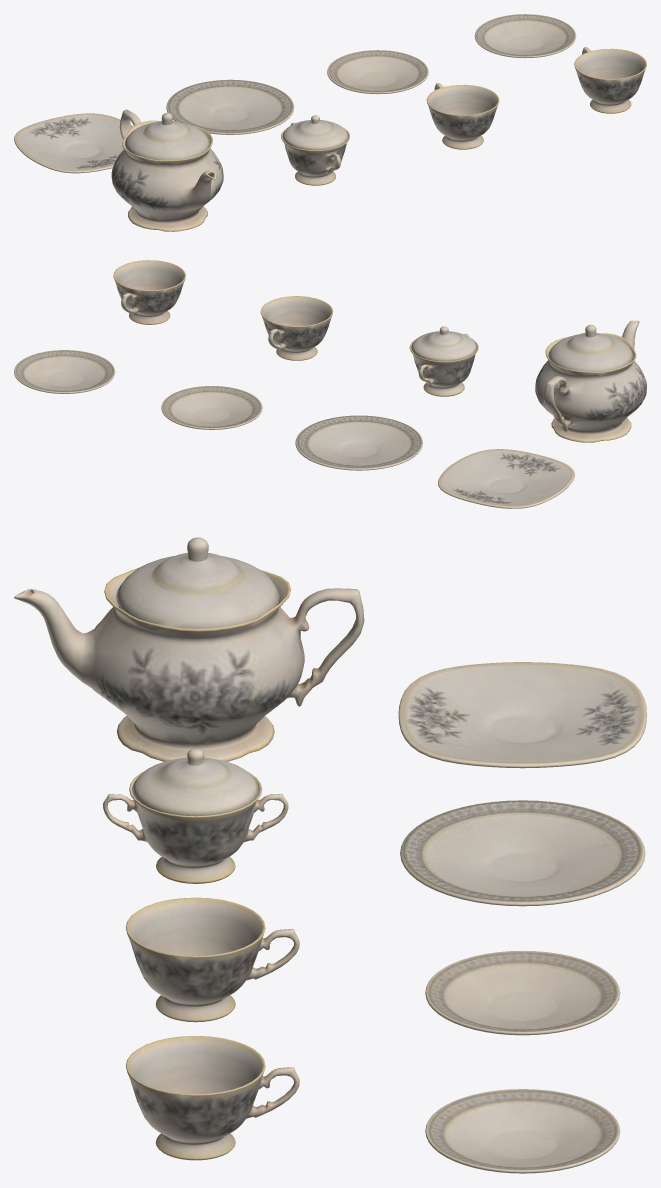
File: tea_set_01.glb
The picture shows the model from 3 angles, top to bottom: view 1: azimuth 30°, elevation 25°; view 2: azimuth 150°, elevation 25°; view 3: azimuth 270°, elevation 25°; orthographic projection. The views are drawn at different scales.
Parts seen in each view (by area): view 1: tea_set_01_teapot_01, tea_set_01_plate_large_circular_03, tea_set_01_plate_large_square_01, tea_set_01_cup_small_01, tea_set_01_cup_small_02, tea_set_01_saucer_circular_03, tea_set_01_saucer_circular_04, tea_set_01_teapot_01_lid, tea_set_01_sugar_cup_01, tea_set_01_sugar_cup_01_lid; view 2: tea_set_01_teapot_01, tea_set_01_plate_large_square_01, tea_set_01_plate_large_circular_03, tea_set_01_cup_small_01, tea_set_01_cup_small_02, tea_set_01_saucer_circular_04, tea_set_01_saucer_circular_03, tea_set_01_teapot_01_lid, tea_set_01_sugar_cup_01, tea_set_01_sugar_cup_01_lid; view 3: tea_set_01_teapot_01, tea_set_01_plate_large_square_01, tea_set_01_plate_large_circular_03, tea_set_01_cup_small_01, tea_set_01_cup_small_02, tea_set_01_saucer_circular_03, tea_set_01_saucer_circular_04, tea_set_01_teapot_01_lid, tea_set_01_sugar_cup_01, tea_set_01_sugar_cup_01_lid.
Part boxes in pixels (bbox=[...]): tea_set_01_teapot_01: bbox=[111, 109, 223, 231]; tea_set_01_plate_large_circular_03: bbox=[166, 79, 294, 134]; tea_set_01_plate_large_square_01: bbox=[14, 113, 133, 173]; tea_set_01_cup_small_01: bbox=[426, 83, 499, 149]; tea_set_01_cup_small_02: bbox=[574, 47, 646, 113]; tea_set_01_saucer_circular_03: bbox=[474, 14, 576, 58]; tea_set_01_saucer_circular_04: bbox=[327, 50, 428, 94]; tea_set_01_teapot_01_lid: bbox=[125, 112, 209, 160]; tea_set_01_sugar_cup_01: bbox=[281, 122, 349, 185]; tea_set_01_sugar_cup_01_lid: bbox=[282, 115, 348, 150]; tea_set_01_teapot_01: bbox=[535, 320, 646, 442]; tea_set_01_plate_large_square_01: bbox=[438, 449, 574, 508]; tea_set_01_plate_large_circular_03: bbox=[295, 415, 422, 470]; tea_set_01_cup_small_01: bbox=[260, 296, 332, 360]; tea_set_01_cup_small_02: bbox=[113, 260, 185, 324]; tea_set_01_saucer_circular_04: bbox=[161, 386, 262, 429]; tea_set_01_saucer_circular_03: bbox=[14, 350, 115, 393]; tea_set_01_teapot_01_lid: bbox=[548, 325, 633, 371]; tea_set_01_sugar_cup_01: bbox=[409, 333, 478, 396]; tea_set_01_sugar_cup_01_lid: bbox=[411, 326, 477, 361]; tea_set_01_teapot_01: bbox=[14, 568, 364, 761]; tea_set_01_plate_large_square_01: bbox=[398, 662, 646, 768]; tea_set_01_plate_large_circular_03: bbox=[400, 800, 645, 906]; tea_set_01_cup_small_01: bbox=[126, 897, 299, 1022]; tea_set_01_cup_small_02: bbox=[126, 1036, 299, 1160]; tea_set_01_saucer_circular_03: bbox=[425, 1089, 620, 1173]; tea_set_01_saucer_circular_04: bbox=[425, 950, 620, 1035]; tea_set_01_teapot_01_lid: bbox=[116, 537, 279, 628]; tea_set_01_sugar_cup_01: bbox=[103, 771, 288, 883]; tea_set_01_sugar_cup_01_lid: bbox=[131, 748, 259, 816].
Size of the model in its own units: 0.9185 by 0.165 by 0.4839.
1 material, 1 textured.
